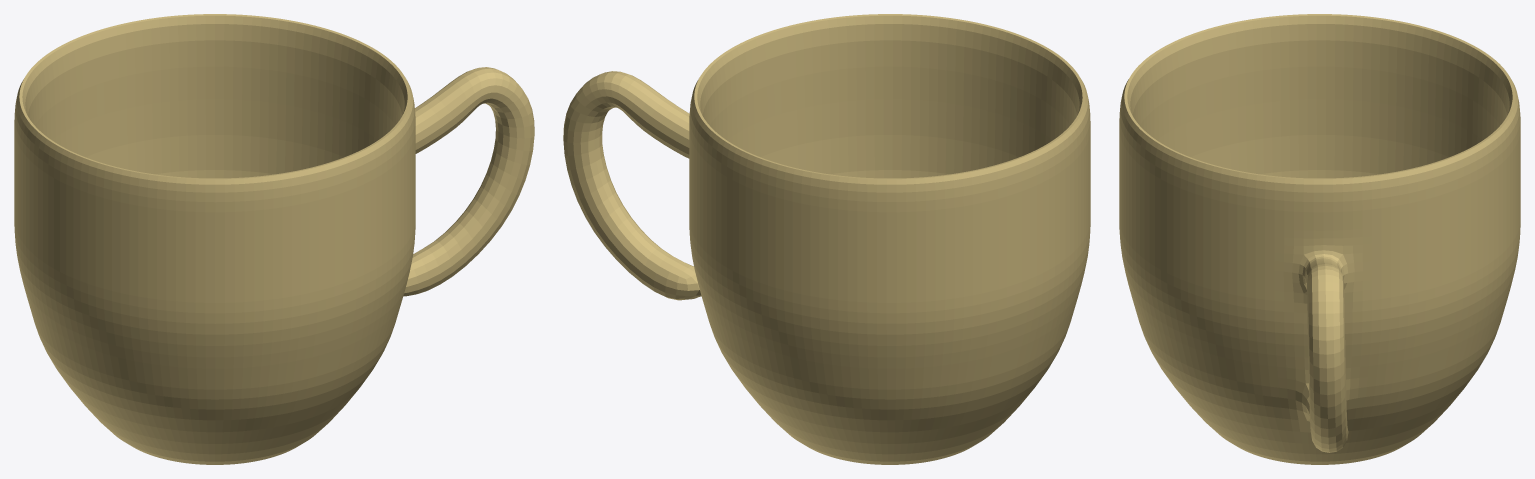
Rendered from Gelas.fbx.
The picture shows the model from 3 angles, left to right: view 1: azimuth 30°, elevation 25°; view 2: azimuth 150°, elevation 25°; view 3: azimuth 270°, elevation 25°; orthographic projection.
Visible parts, largest first — view 1: Cylinder; view 2: Cylinder; view 3: Cylinder.
Part boxes in pixels (<box>): Cylinder: <box>14,14,534,464</box>; Cylinder: <box>563,14,1090,464</box>; Cylinder: <box>1119,14,1520,464</box>.
Size of the model in its own units: 283 by 181 by 199.
